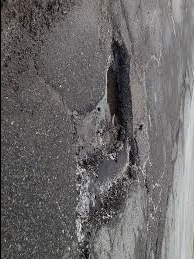pothole: (68, 142, 139, 239), (104, 30, 134, 141), (72, 97, 107, 156)
